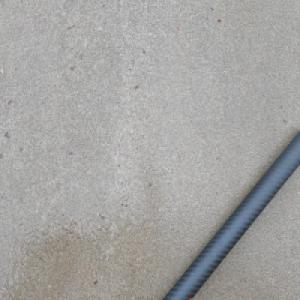LuggagePart: (152, 130, 299, 300)
